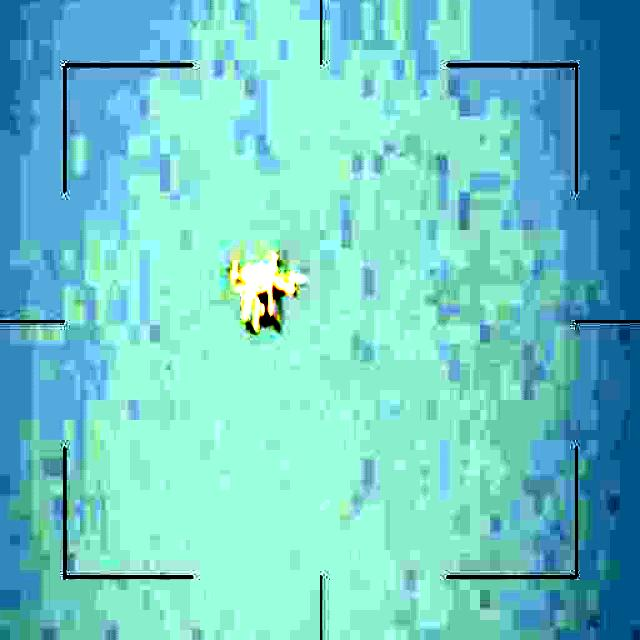bird: (219, 244, 299, 338)
